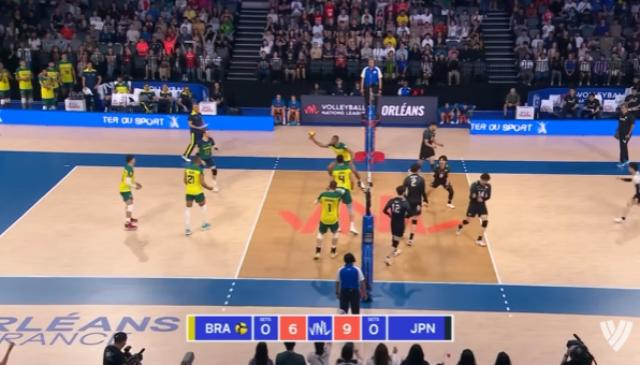Levantador: (300, 176, 348, 266), (425, 147, 459, 210)
Libero: (616, 158, 640, 237), (196, 126, 224, 190)
bola: (304, 124, 322, 144)
